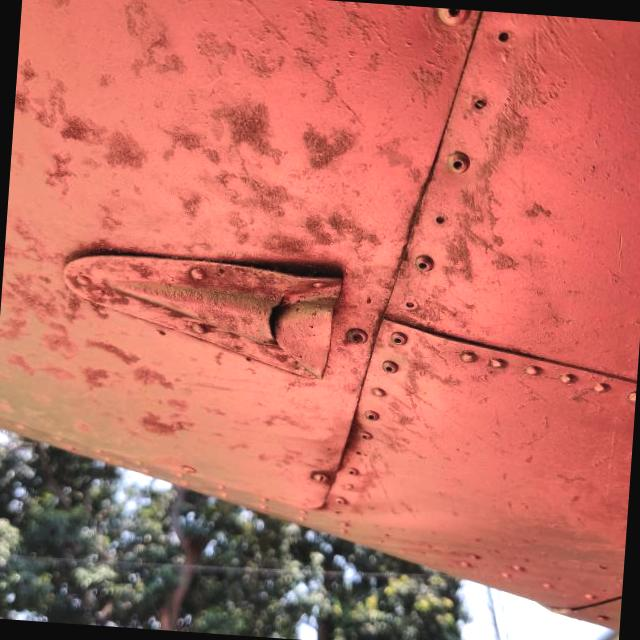Missing Fastener: (452, 82, 498, 122), (492, 26, 524, 59), (394, 292, 422, 310), (430, 206, 452, 227), (352, 445, 363, 461)
